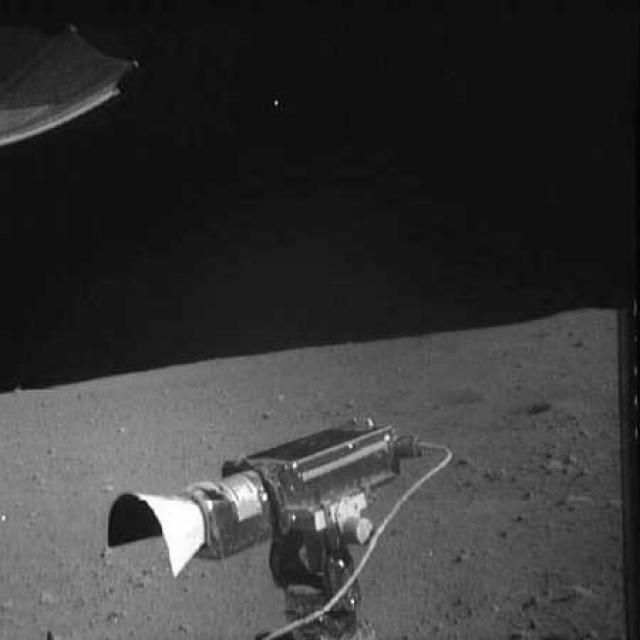crater: (424, 378, 488, 412), (506, 392, 560, 424)
rock: (556, 576, 593, 608), (547, 448, 586, 474), (554, 489, 590, 509), (523, 612, 548, 634), (98, 542, 118, 568), (488, 463, 515, 482), (514, 506, 538, 526), (602, 495, 624, 514), (524, 588, 544, 607), (456, 544, 474, 565), (44, 624, 67, 638), (260, 405, 276, 425), (461, 454, 477, 471), (520, 488, 536, 503)
